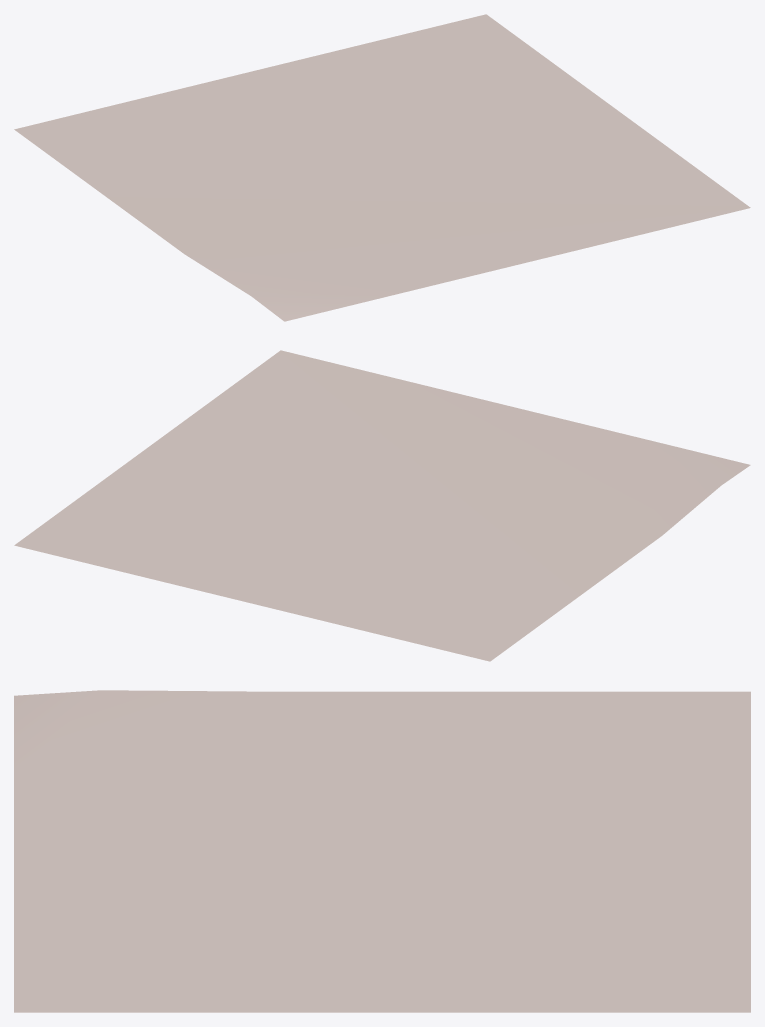
The model's file is carpet_008.glb.
3 views of the same model, one above another, from view 1: azimuth 30°, elevation 25°; view 2: azimuth 150°, elevation 25°; view 3: azimuth 270°, elevation 25° (orthographic). The views are drawn at different scales.
Visible parts, largest first — view 1: carpet_008; view 2: carpet_008; view 3: carpet_008.
Boxes of the visible parts, x1,y1,x2,y2 form: carpet_008: (14,14,750,321); carpet_008: (14,350,750,661); carpet_008: (14,690,750,1012).
Size of the model in its own units: 2.46 by 0.0148 by 2.39.
Materials: 1 (1 with a texture image).
